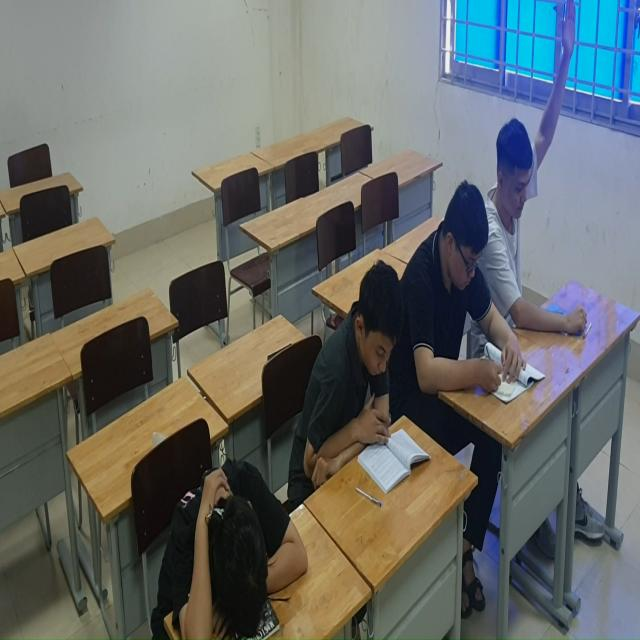raise_hand: (484, 1, 604, 350)
read: (306, 255, 437, 498), (417, 184, 529, 431)
sleep: (158, 455, 312, 640)
